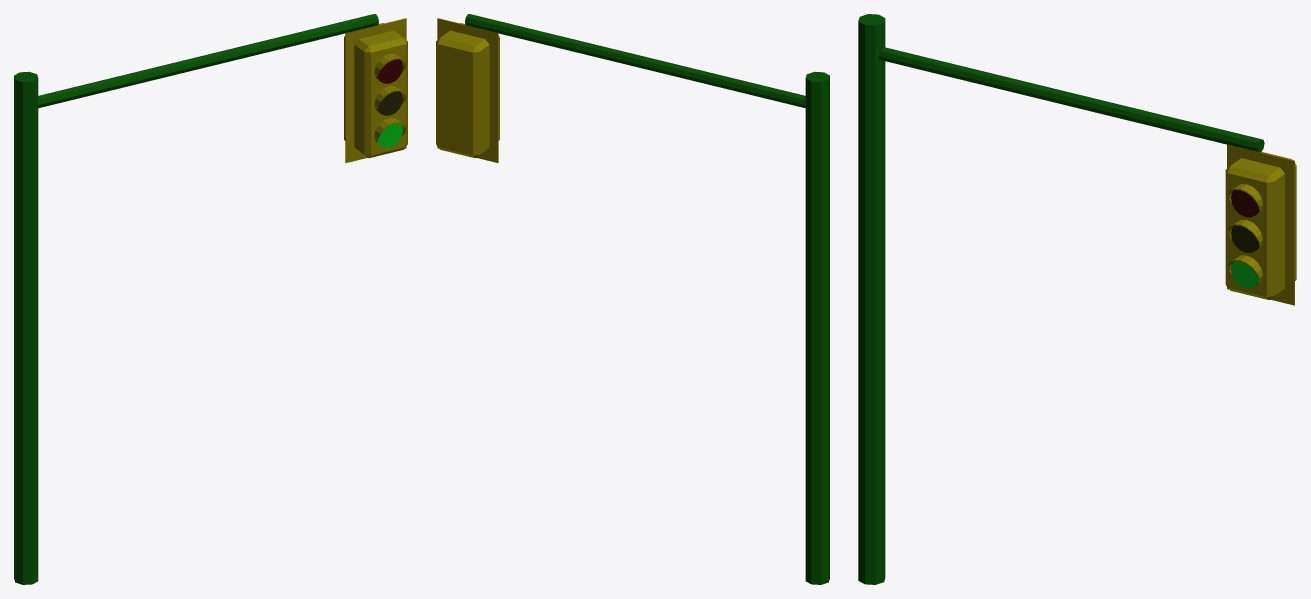
File: traffic-light-green.fbx
3 renders of one model, left to right at view 1: azimuth 30°, elevation 25°; view 2: azimuth 150°, elevation 25°; view 3: azimuth 330°, elevation 25°, orthographic. The views are drawn at different scales.
Visible parts, largest first — view 1: pole, box, arm, frame; view 2: pole, box, arm, frame; view 3: pole, box, arm, frame, green light, red light.
Part boxes in pixels (bbox=[...]): pole: bbox=[14, 71, 38, 584]; box: bbox=[344, 23, 407, 158]; arm: bbox=[38, 14, 378, 108]; frame: bbox=[345, 18, 406, 162]; pole: bbox=[805, 71, 829, 584]; box: bbox=[436, 23, 499, 158]; arm: bbox=[465, 14, 805, 108]; frame: bbox=[437, 18, 498, 162]; pole: bbox=[858, 14, 885, 584]; box: bbox=[1225, 151, 1296, 299]; arm: bbox=[878, 47, 1264, 152]; frame: bbox=[1227, 144, 1294, 305]; green light: bbox=[1231, 261, 1259, 288]; red light: bbox=[1231, 190, 1259, 217].
Size of the model in its own units: 895 by 1099 by 123.
